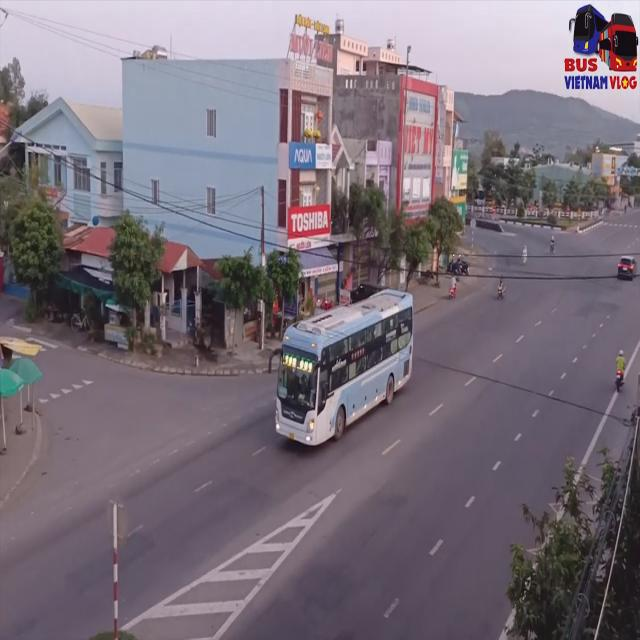bus: (272, 289, 412, 454)
car: (617, 252, 638, 278)
motorbike: (613, 350, 627, 394)
truck: (559, 2, 638, 90)
